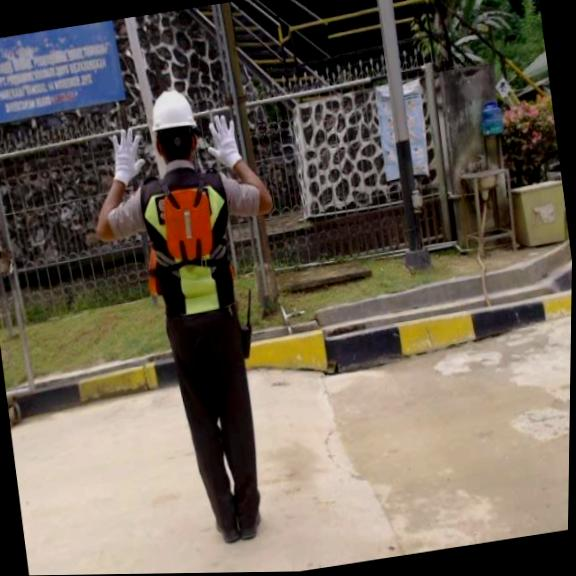safety_vest: (155, 177, 220, 266)
